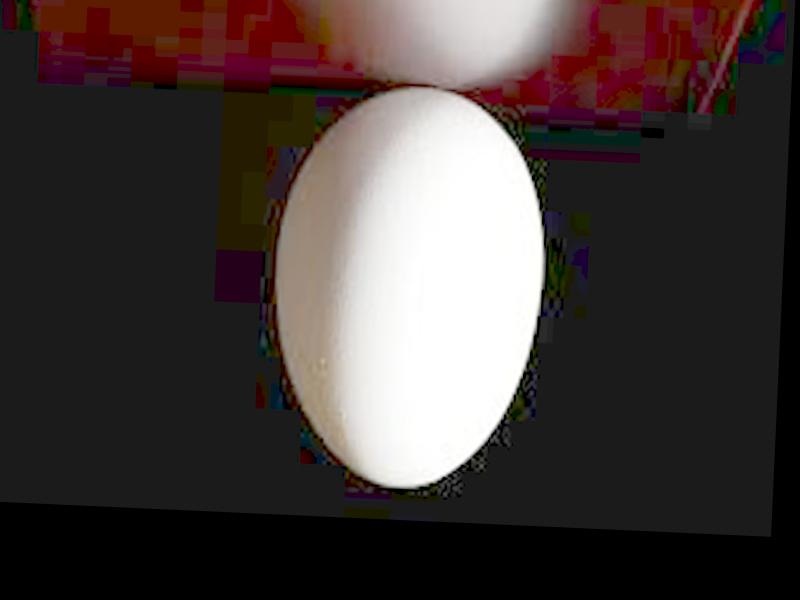Eggs: (270, 81, 549, 492)
